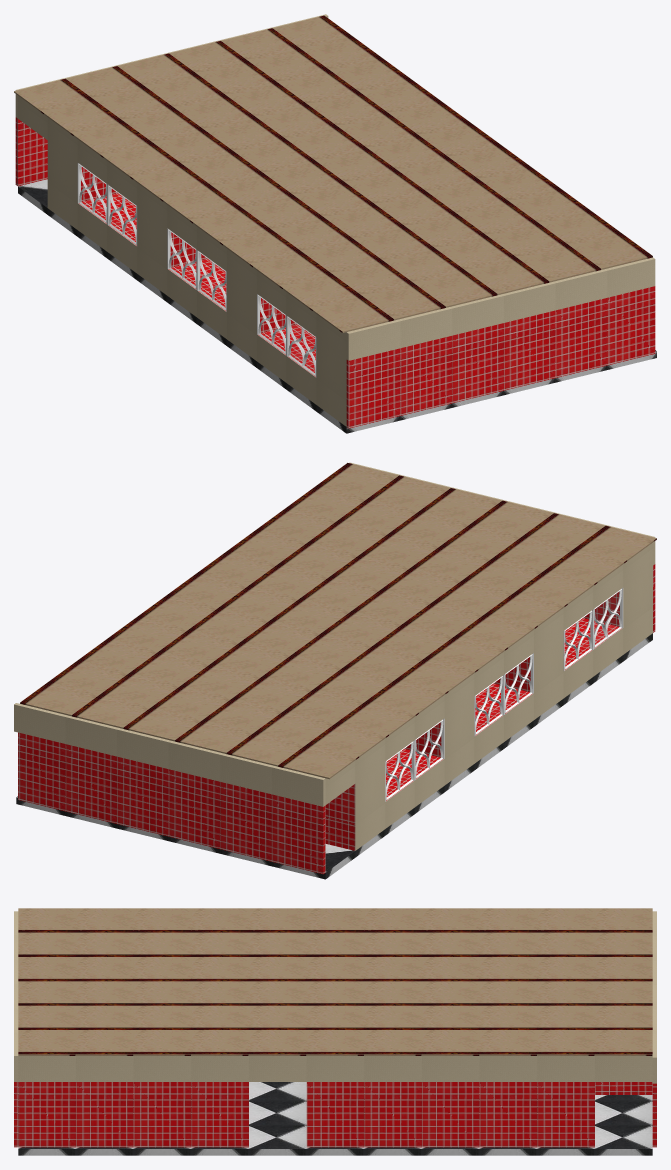
File: Kitchen.fbx
The picture shows the model from 3 angles, top to bottom: view 1: azimuth 30°, elevation 25°; view 2: azimuth 150°, elevation 25°; view 3: azimuth 270°, elevation 25°; orthographic projection. The views are drawn at different scales.
Visible parts, largest first — view 1: KitchenCeiling, KitchenWallB0Back.001, KitchenWallB0Back, KitchenWallB1Right.003, KitchenFloorTiles, KitchenWallB0Back.002, KitchenWallB0Back.003, KitchenWallB0Front, KitchenWallB1Right.002, KitchenWindow, KitchenWindow.005, KitchenWindow.004 (+3 smaller); view 2: KitchenCeiling, KitchenWallB0Back.001, KitchenWallB0Front, KitchenWallB1Right.001, KitchenWallB0Back.002, KitchenFloorTiles, KitchenWallB0Front.001, KitchenWindow, KitchenWindow.001, KitchenWindow.002, KitchenWindow.004, KitchenWindow.005 (+1 smaller); view 3: KitchenCeiling, KitchenWallB0Right, KitchenWallB1Right, KitchenWallB0Right.001, KitchenFloorTiles, KitchenWallB1Right.001, KitchenWallB0Front.002, KitchenWallB1Right.003.
Boxes of the visible parts, bbox=[...] form: KitchenCeiling: bbox=[14, 15, 652, 332]; KitchenWallB0Back.001: bbox=[77, 139, 346, 426]; KitchenWallB0Back: bbox=[346, 298, 607, 428]; KitchenWallB1Right.003: bbox=[346, 269, 607, 360]; KitchenFloorTiles: bbox=[18, 179, 656, 433]; KitchenWallB0Back.002: bbox=[18, 96, 117, 229]; KitchenWallB0Back.003: bbox=[607, 286, 655, 365]; KitchenWallB0Front: bbox=[15, 117, 47, 186]; KitchenWallB1Right.002: bbox=[605, 257, 655, 297]; KitchenWindow: bbox=[286, 316, 316, 377]; KitchenWindow.005: bbox=[77, 163, 107, 224]; KitchenWindow.004: bbox=[107, 184, 137, 246]; KitchenCeiling: bbox=[20, 462, 656, 779]; KitchenWallB0Back.001: bbox=[385, 543, 652, 828]; KitchenWallB0Front: bbox=[65, 744, 325, 874]; KitchenWallB1Right.001: bbox=[14, 703, 325, 806]; KitchenWallB0Back.002: bbox=[325, 739, 385, 850]; KitchenFloorTiles: bbox=[16, 633, 652, 879]; KitchenWallB0Front.001: bbox=[18, 732, 65, 811]; KitchenWindow: bbox=[593, 588, 623, 649]; KitchenWindow.001: bbox=[563, 609, 593, 670]; KitchenWindow.002: bbox=[474, 675, 504, 736]; KitchenWindow.004: bbox=[415, 718, 444, 779]; KitchenWindow.005: bbox=[385, 740, 414, 801]; KitchenCeiling: bbox=[18, 908, 652, 1055]; KitchenWallB0Right: bbox=[306, 1082, 594, 1147]; KitchenWallB1Right: bbox=[18, 1056, 652, 1081]; KitchenWallB0Right.001: bbox=[18, 1082, 248, 1147]; KitchenFloorTiles: bbox=[18, 1082, 652, 1155]; KitchenWallB1Right.001: bbox=[652, 911, 656, 1083]; KitchenWallB0Front.002: bbox=[595, 1082, 652, 1094]; KitchenWallB1Right.003: bbox=[14, 911, 18, 1033].
Bounding box in the file's own units: 1215 × 380 × 2230.
